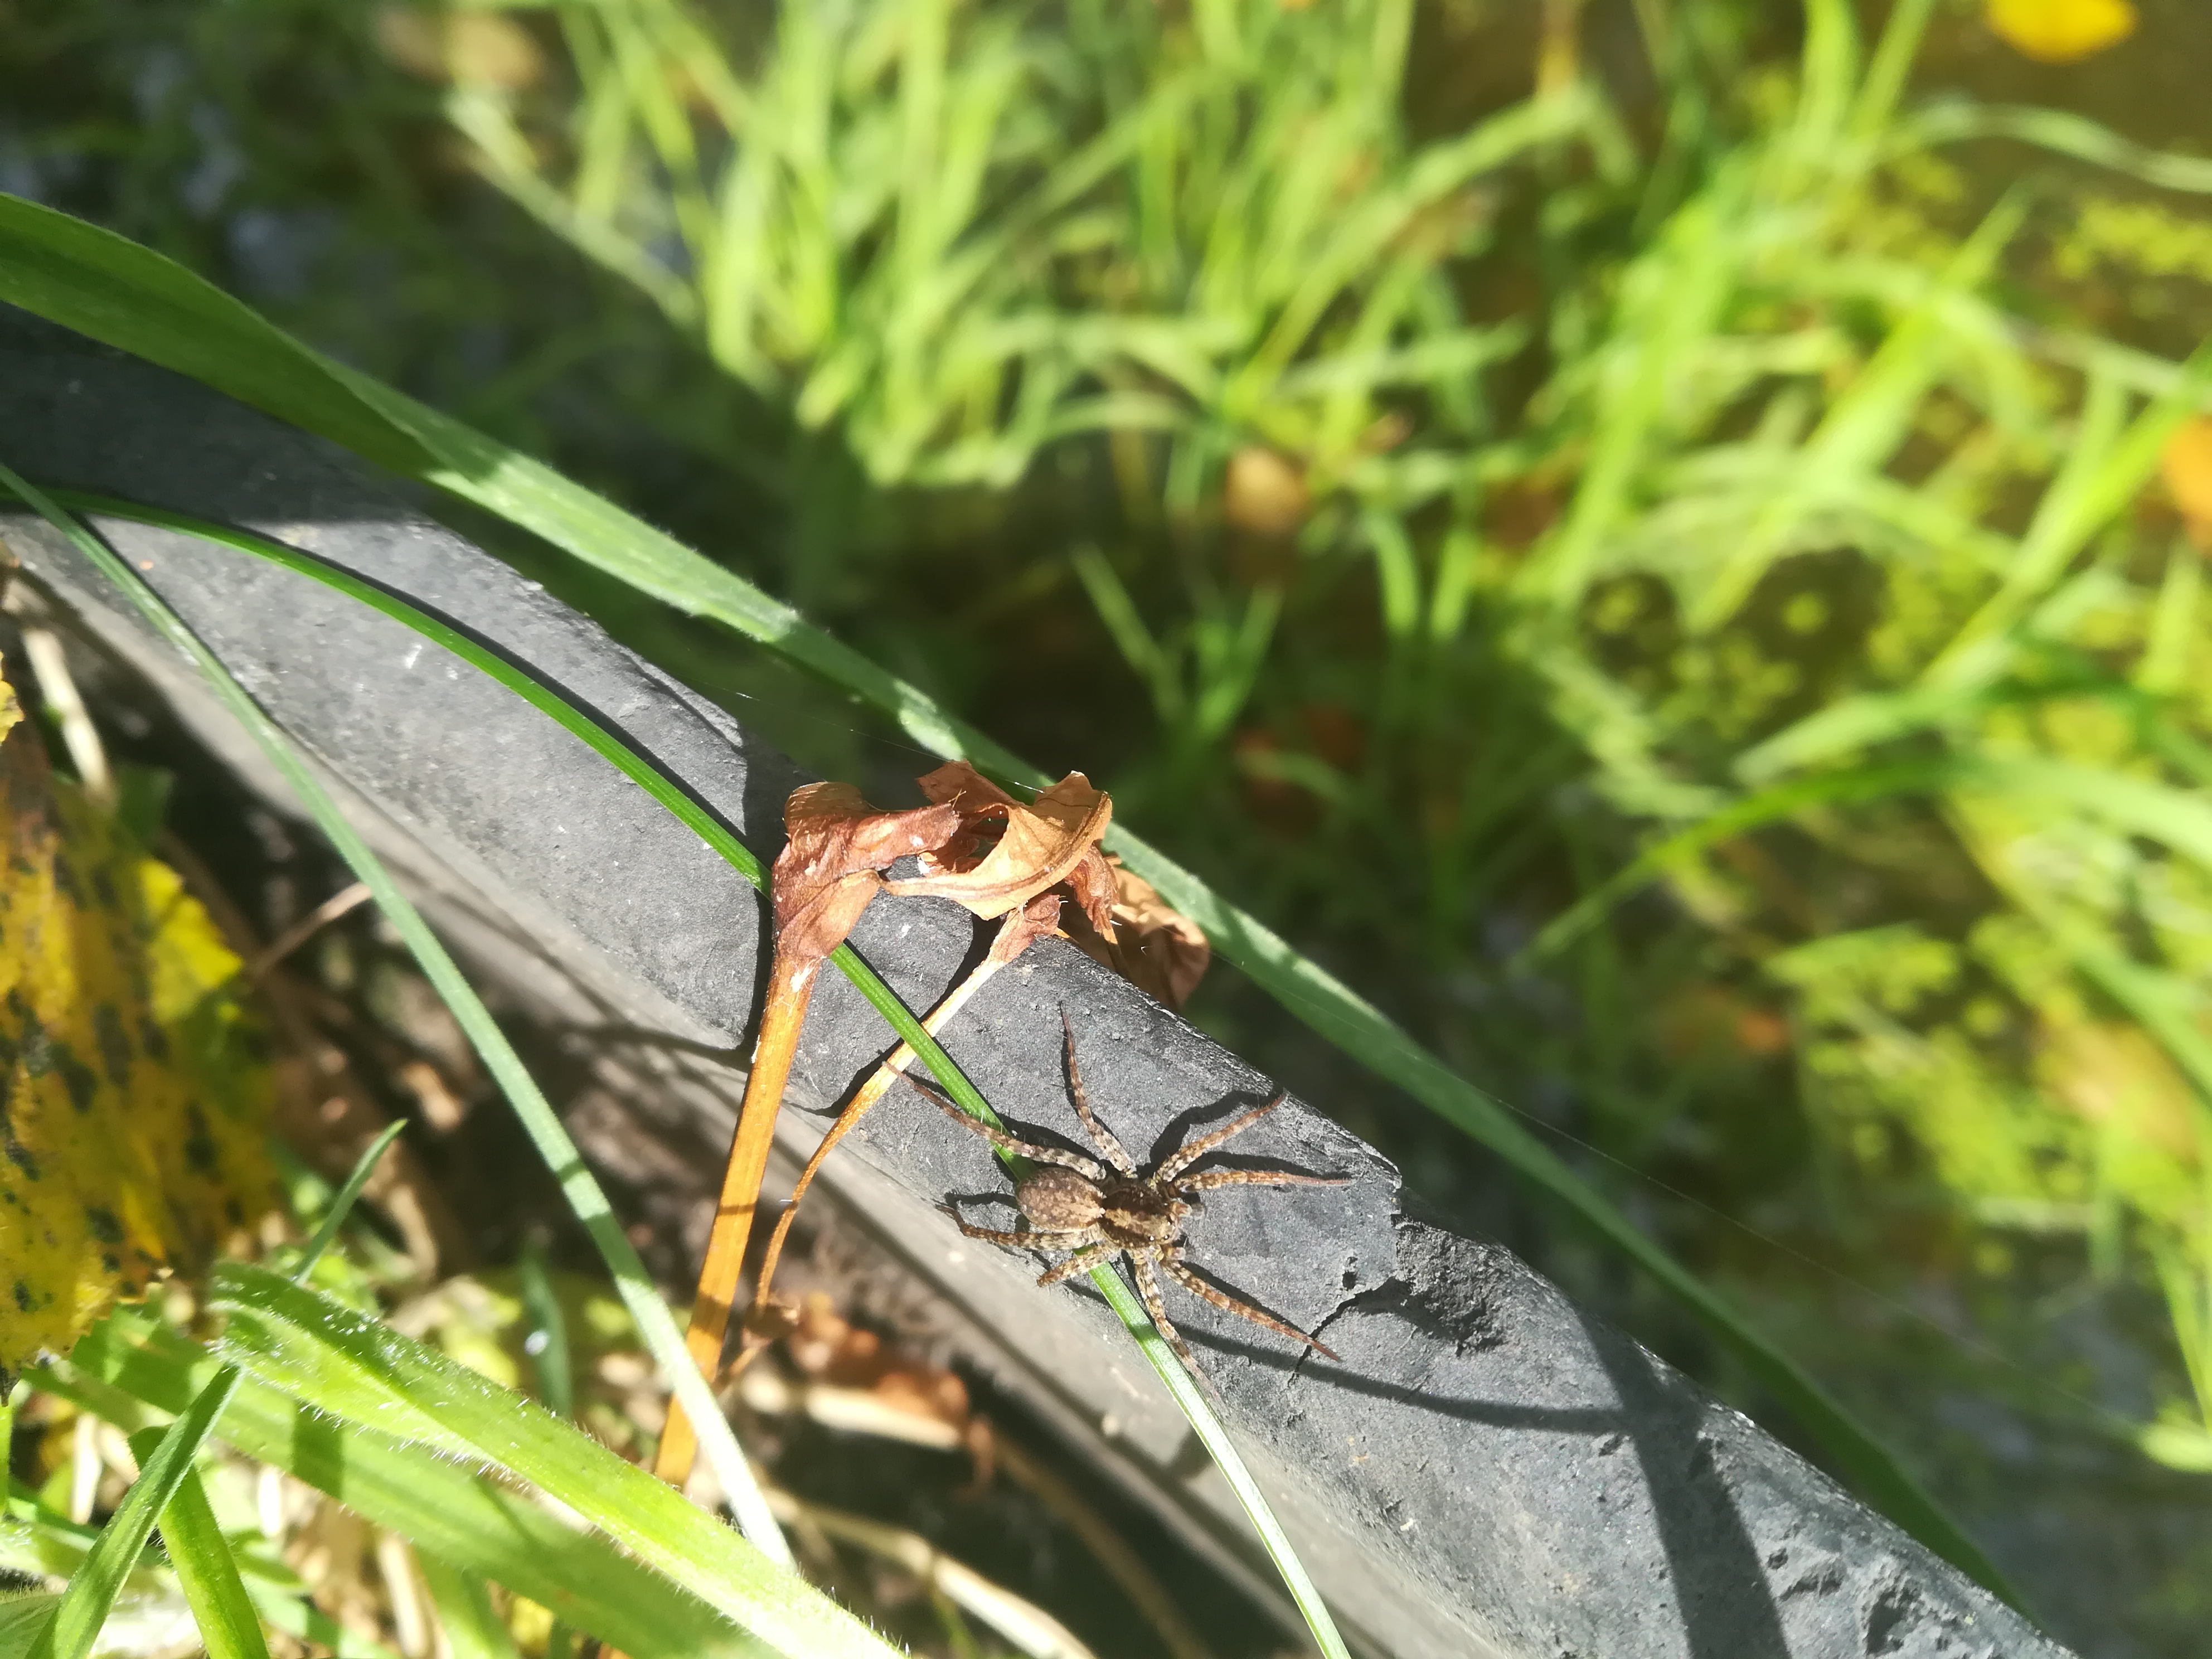spider: (860, 1014, 1374, 1443)
